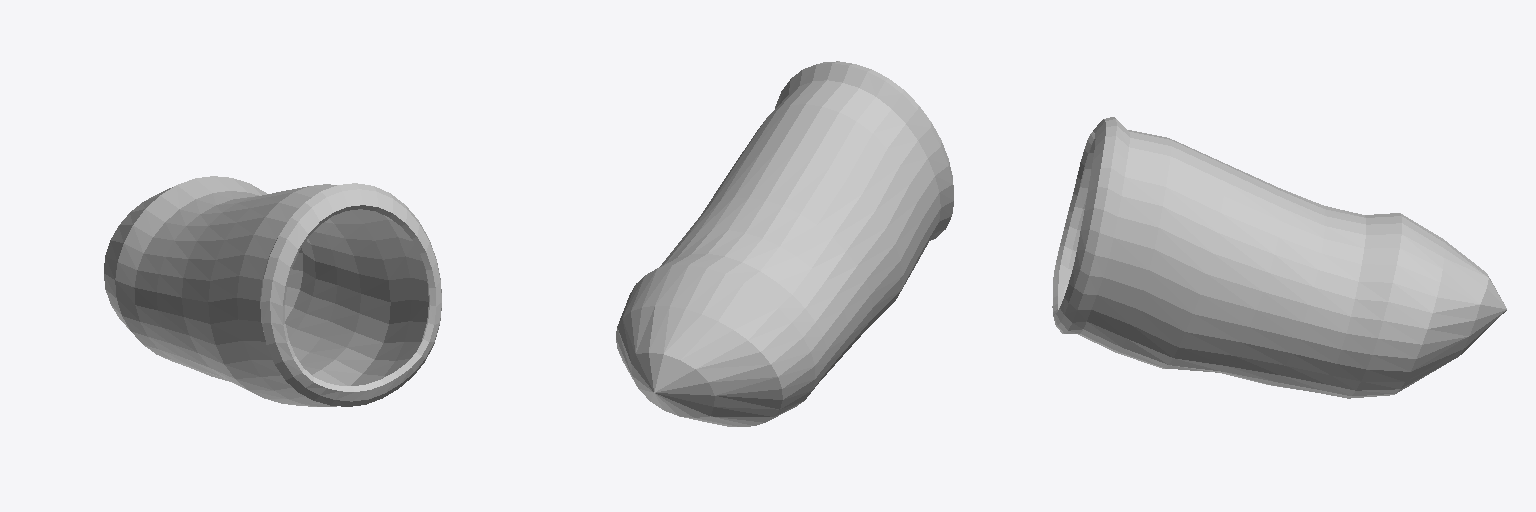
The model's file is 1Anthro shith out.obj.
3 views of the same model, side by side, from view 1: azimuth 30°, elevation 25°; view 2: azimuth 150°, elevation 25°; view 3: azimuth 270°, elevation 25° (orthographic).
Visible parts, largest first — view 1: dick_in_sheath.012_horsecock.023; view 2: dick_in_sheath.012_horsecock.023; view 3: dick_in_sheath.012_horsecock.023.
Part boxes in pixels (left/top/right/bottom): dick_in_sheath.012_horsecock.023: left=104, top=176, right=441, bottom=406; dick_in_sheath.012_horsecock.023: left=616, top=61, right=953, bottom=426; dick_in_sheath.012_horsecock.023: left=1052, top=117, right=1506, bottom=398.
Bounding box in the file's own units: 2.63 × 3.52 × 5.56.